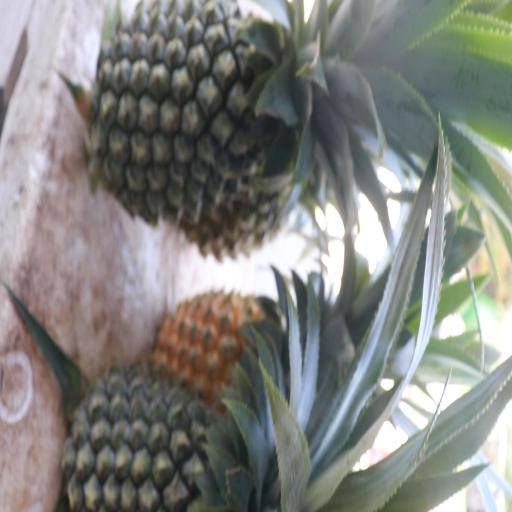Pineapple - v8 v1: (156, 272, 288, 407)
